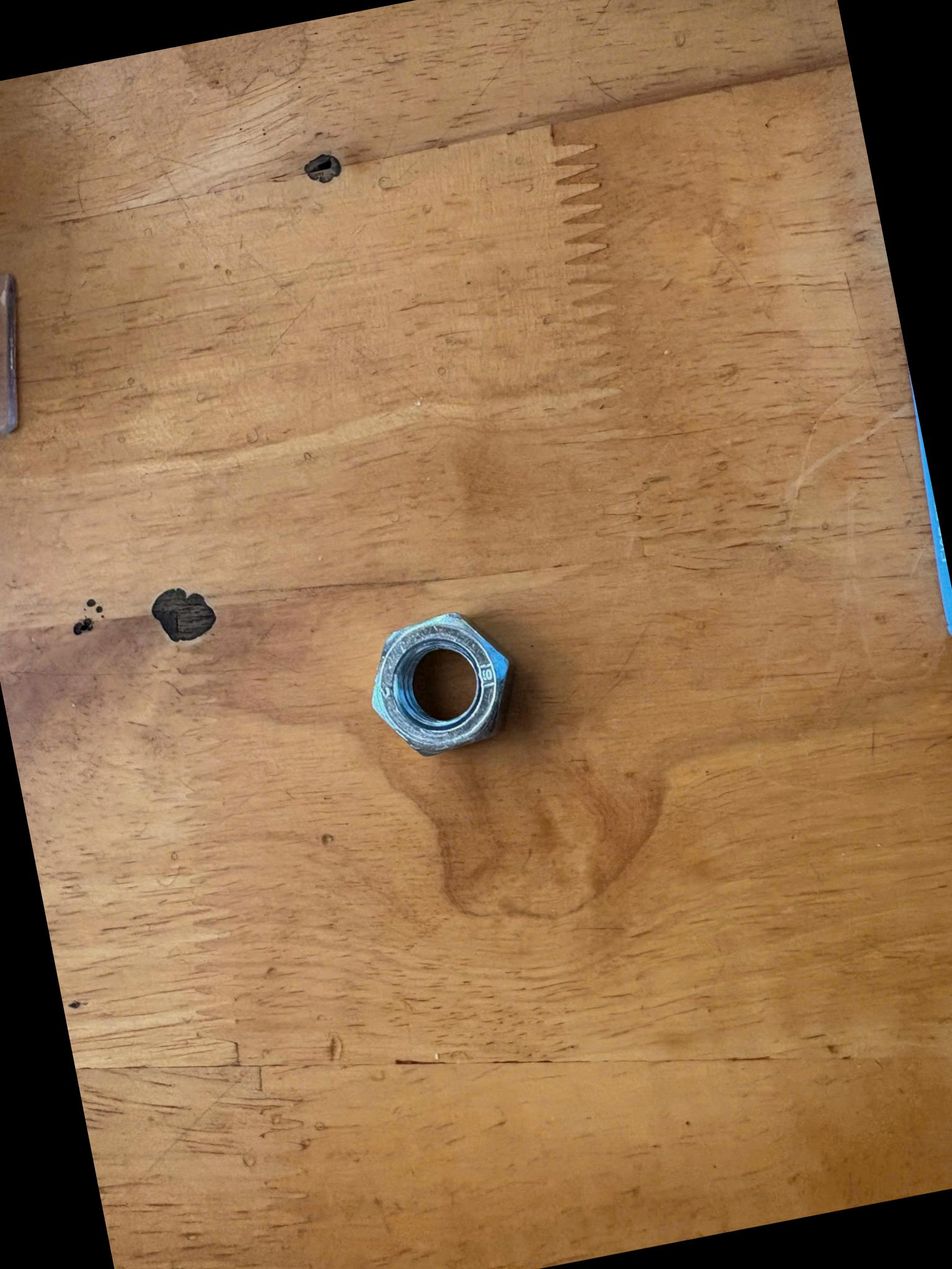nut: (342, 591, 538, 790)
